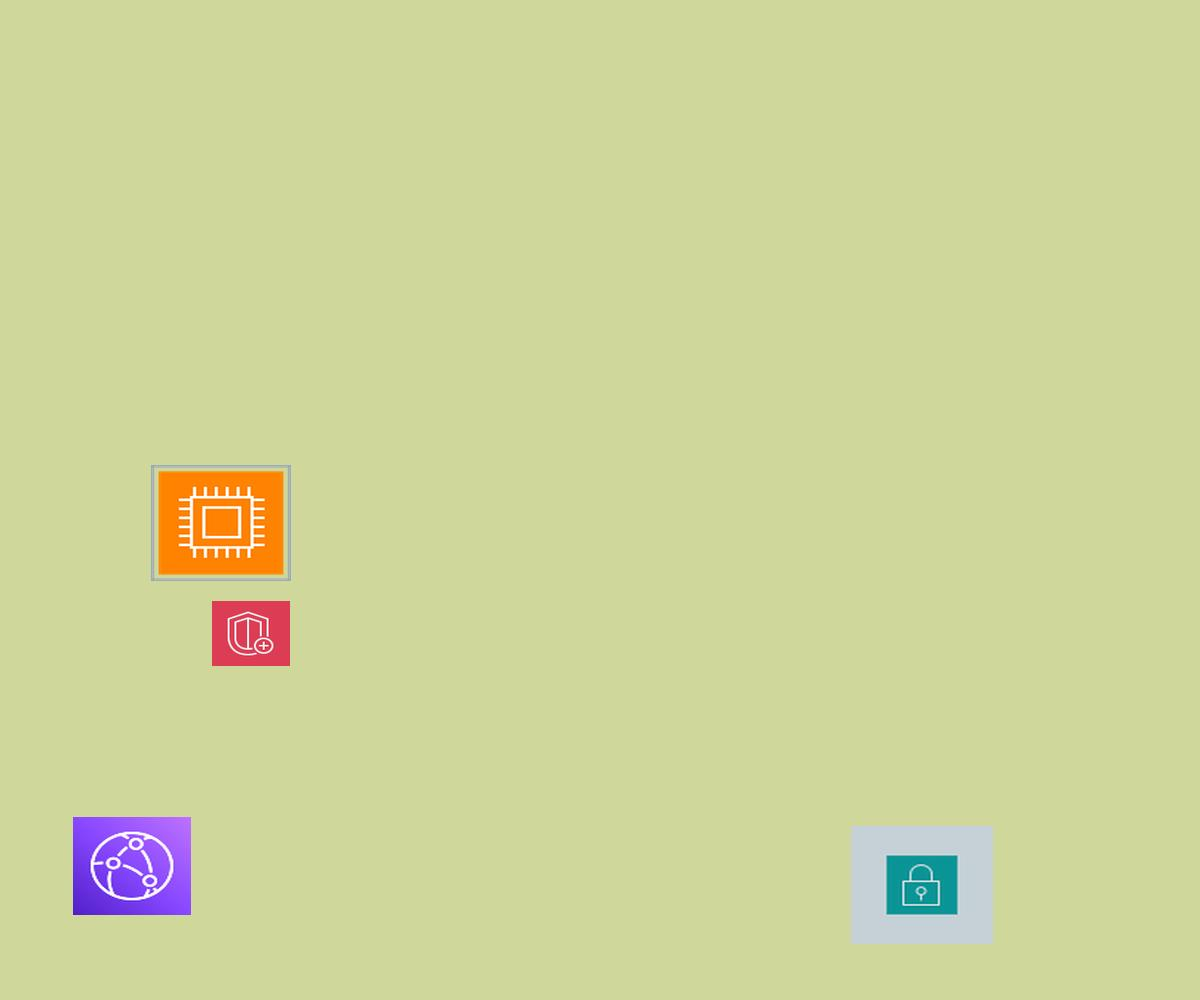AWS-Category_Compute: (151, 465, 291, 581)
AWS-CloudFront: (73, 817, 191, 915)
AWS-Private-subnet: (851, 826, 993, 944)
AWS-Shield: (212, 601, 290, 666)
